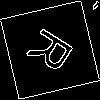R: (25, 25, 84, 81)
